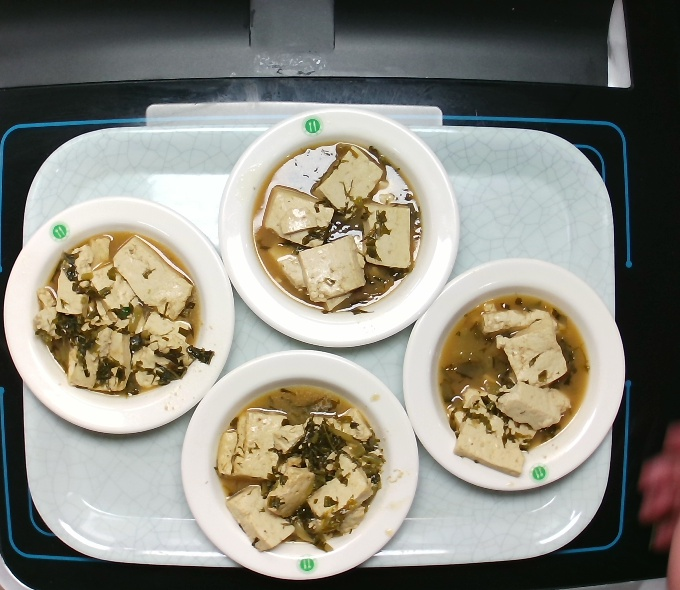wcq-XueCaiDouFu: (247, 135, 430, 316), (30, 221, 214, 400), (210, 375, 391, 553), (434, 285, 594, 478)
